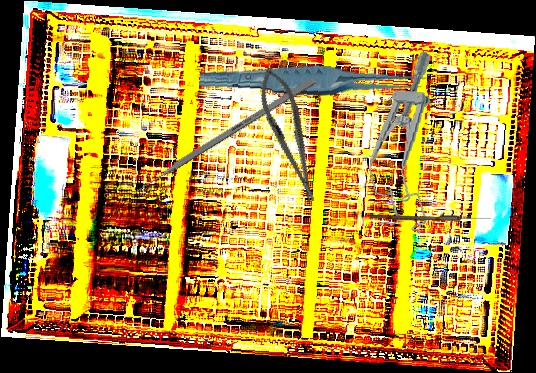Needle Holder: (251, 63, 327, 207)
Pusher: (122, 76, 317, 202)
Speculum: (362, 47, 445, 235)
Surgical Spoon: (370, 215, 491, 221)
Tissue Forceps: (198, 55, 428, 108)
